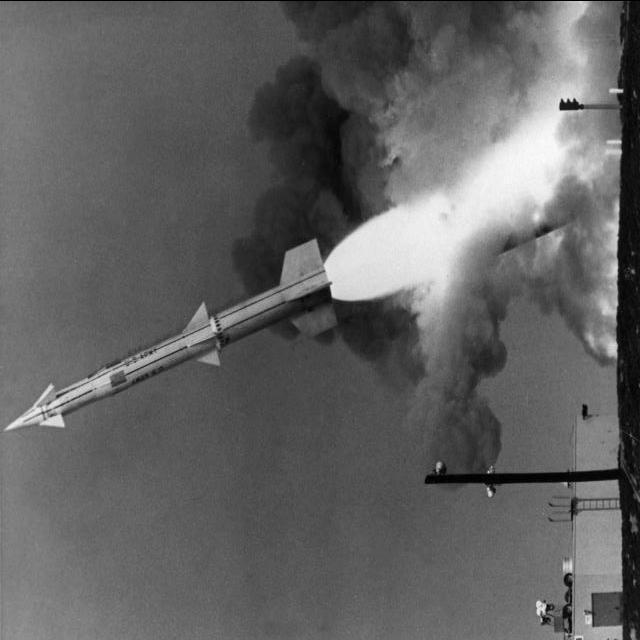missile: (2, 241, 330, 438)
